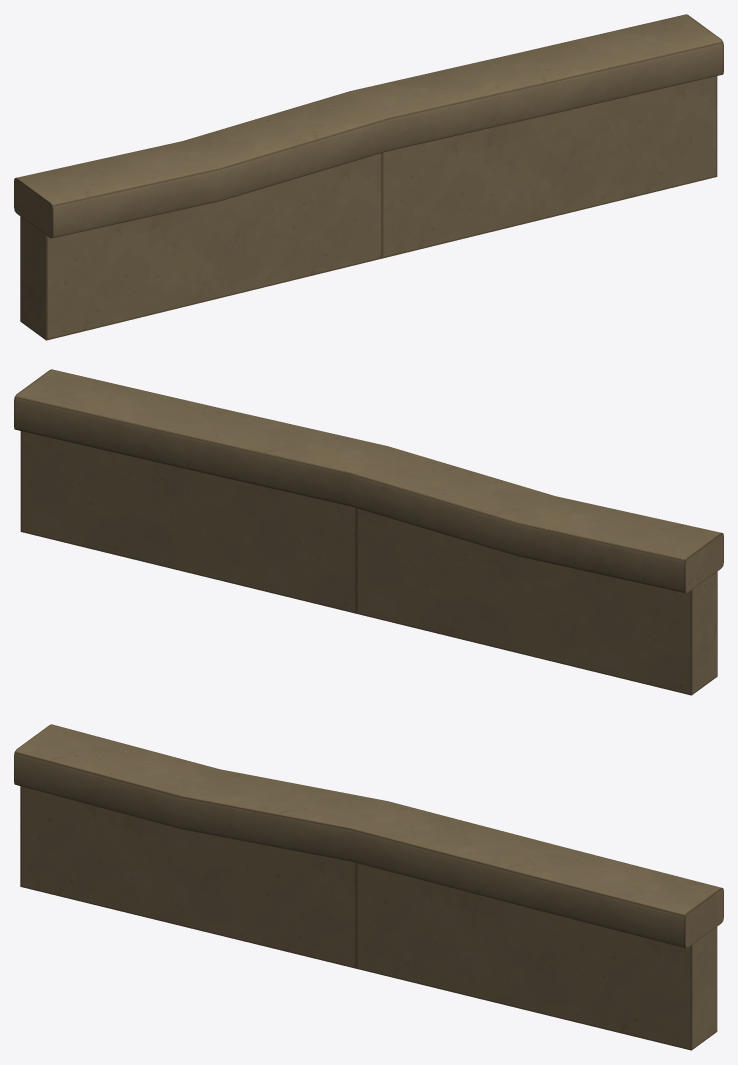
File: SM_building_fence_03.glb
3 renders of one model, top to bottom at view 1: azimuth 30°, elevation 25°; view 2: azimuth 150°, elevation 25°; view 3: azimuth 330°, elevation 25°, orthographic.
Parts seen in each view (by area): view 1: SM_building_fence_03; view 2: SM_building_fence_03; view 3: SM_building_fence_03.
Part boxes in pixels (x1,y1,x2,y2): SM_building_fence_03: (14, 14, 723, 340); SM_building_fence_03: (14, 369, 723, 695); SM_building_fence_03: (14, 724, 723, 1050).
Bounding box in the file's own units: 6 × 1.24 × 0.6.
Materials: 1 (1 with a texture image).
